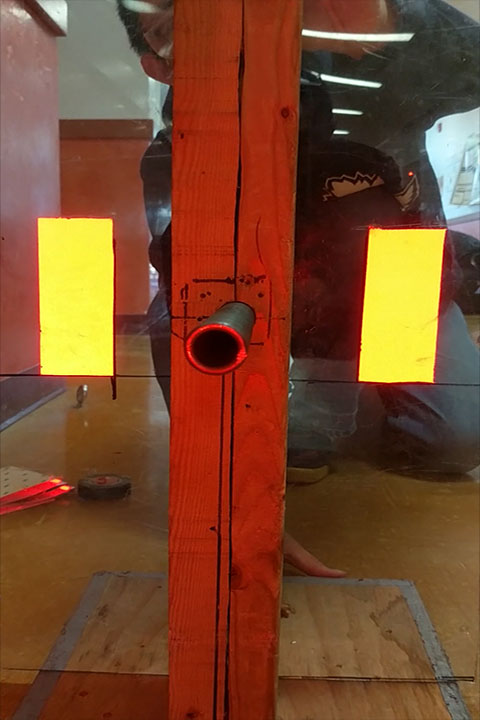gear: (357, 227, 447, 384), (38, 217, 115, 378)
